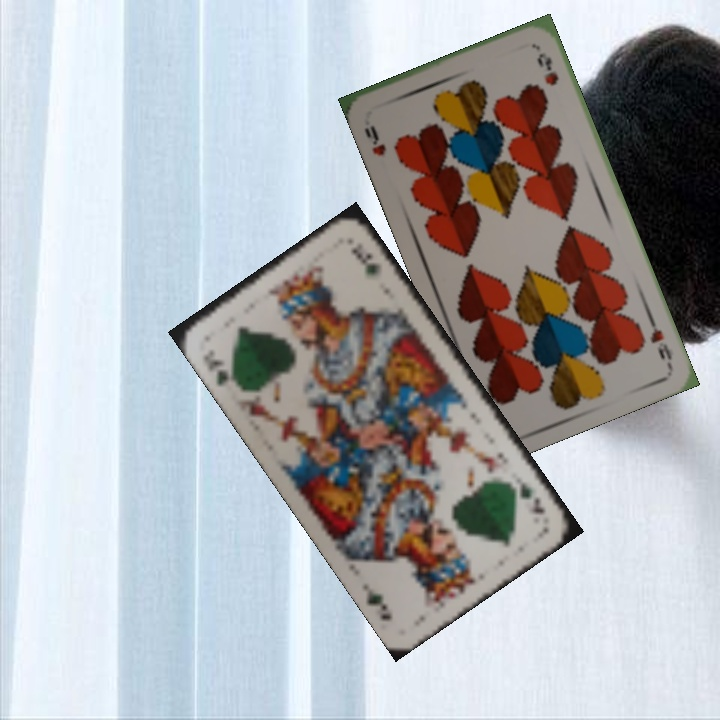GK: (198, 345, 240, 390), (514, 473, 548, 517)
H9: (644, 312, 675, 369), (360, 121, 389, 159)
